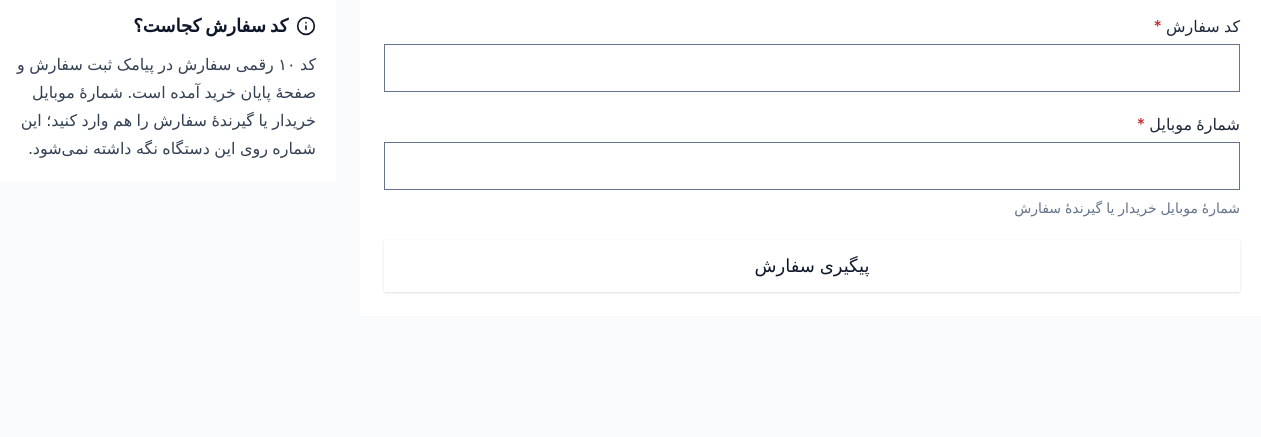
Test case: the API’s answers › 404: «سفارشی با این شماره و کد پیدا نشد», the values kept, no result
The image size is (1261, 437).
Type "2583973877" into the field labelled "کد سفارش *" at (812, 68), box [385,45,1239,91]
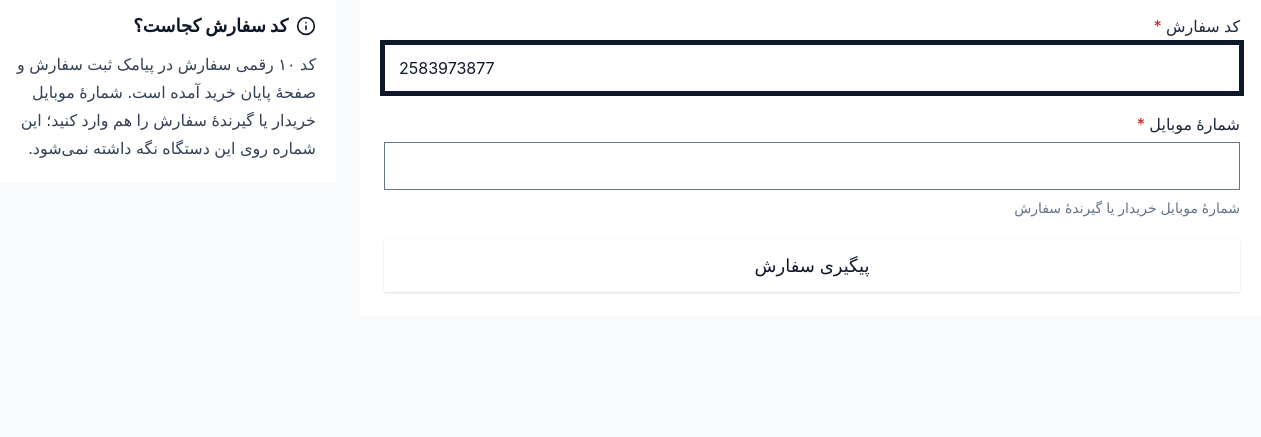
Type "09011234513" into the field labelled "شمارهٔ موبایل *" at (812, 166), box [385,143,1239,189]
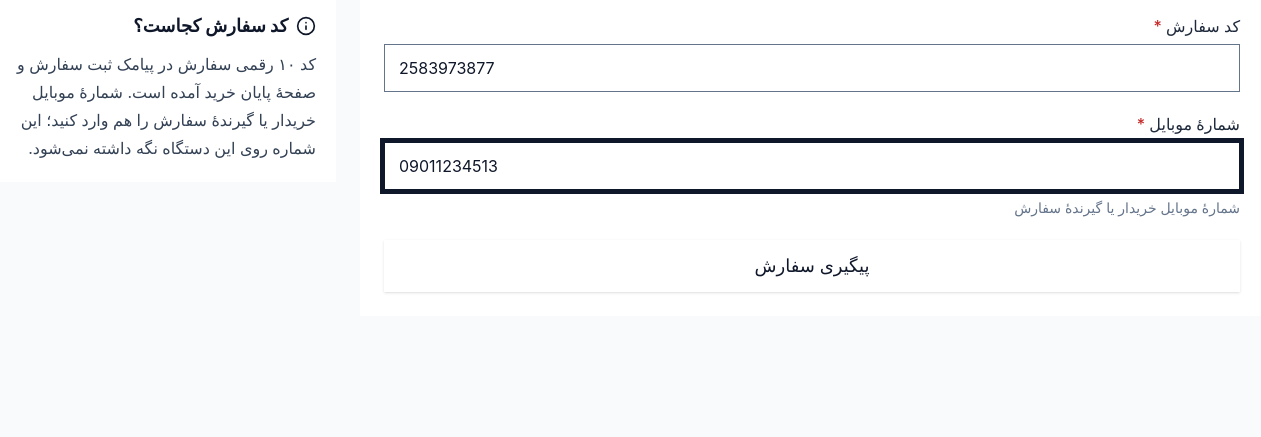
Click the button "پیگیری سفارش" at (812, 266), box [384,240,1240,292]
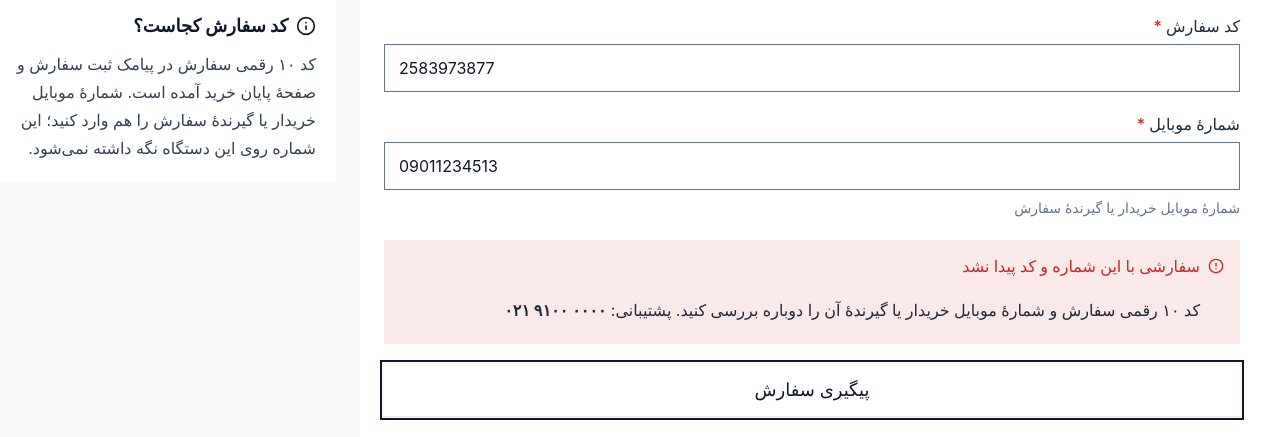
Result: the message shows "سفارشی با این شماره و کد پیدا نشد" at [962,256,1200,276]
